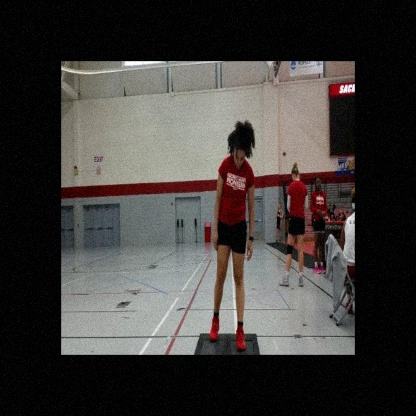lateral_flexion_left: (208, 116, 258, 355)
stance_width_normal: (207, 154, 255, 355)
